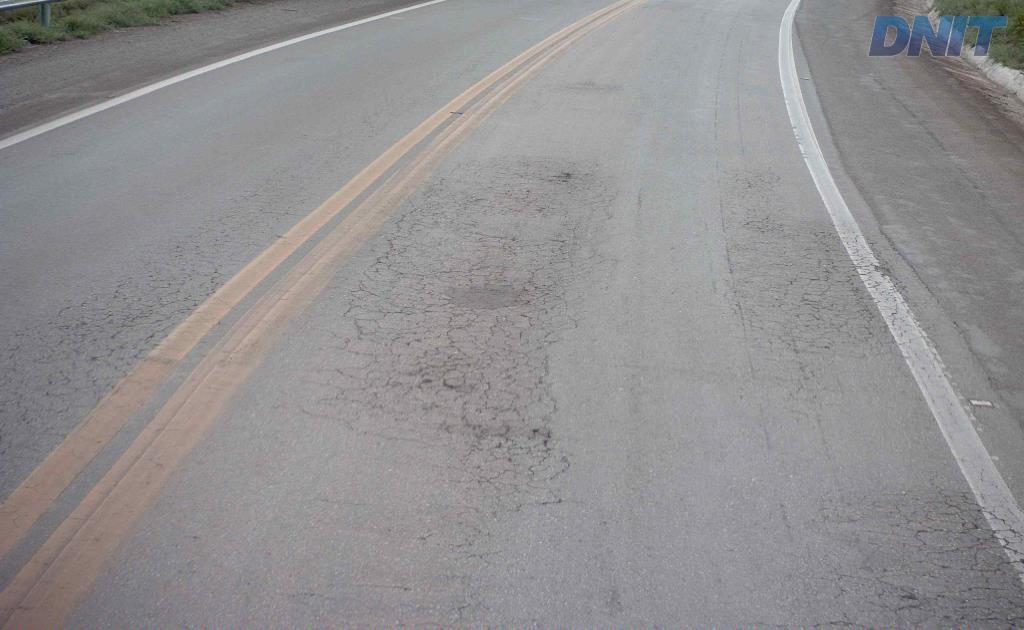crack: (465, 273, 538, 313), (879, 587, 939, 620), (967, 592, 1017, 627), (846, 286, 876, 341)
